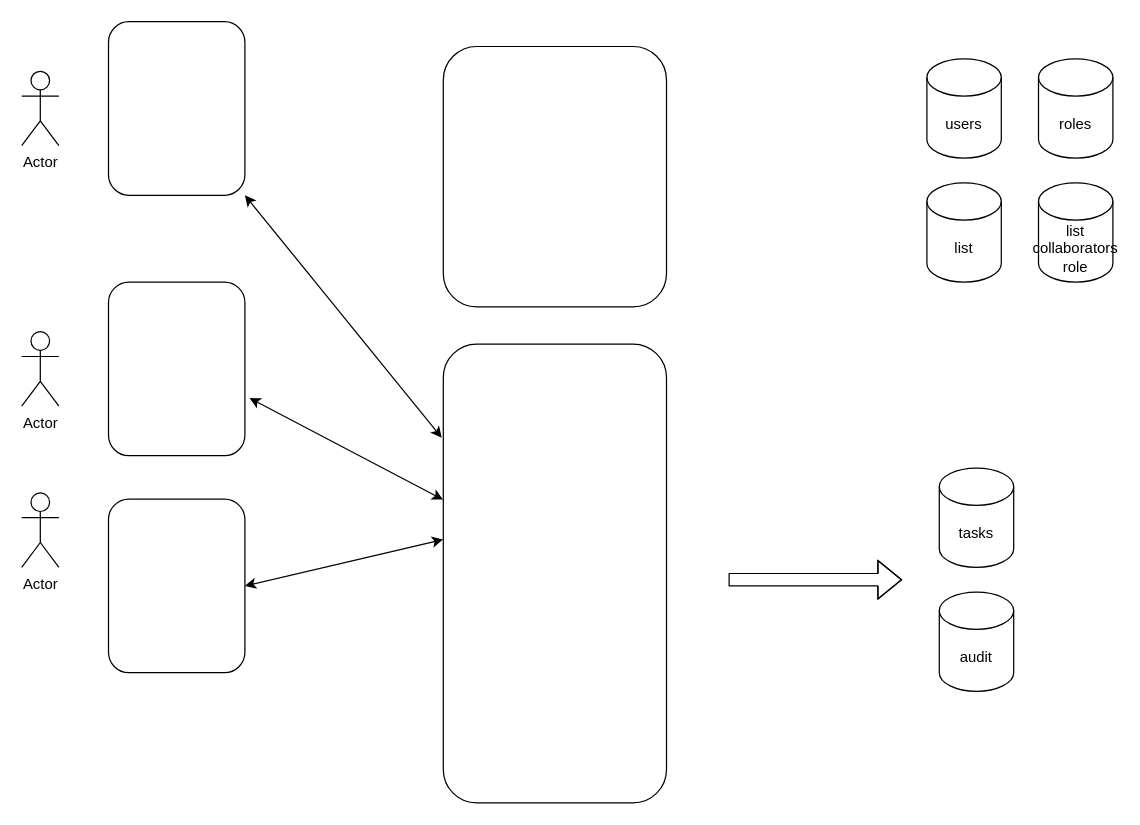
This 1140x825 diagram has some shape labels left out. Here are the shapes that lost their labels. From the top down, the centre of each, then its label:
the point at 554,176: server/api (authentication, creation of new lists)
the point at 554,573: server/socket
